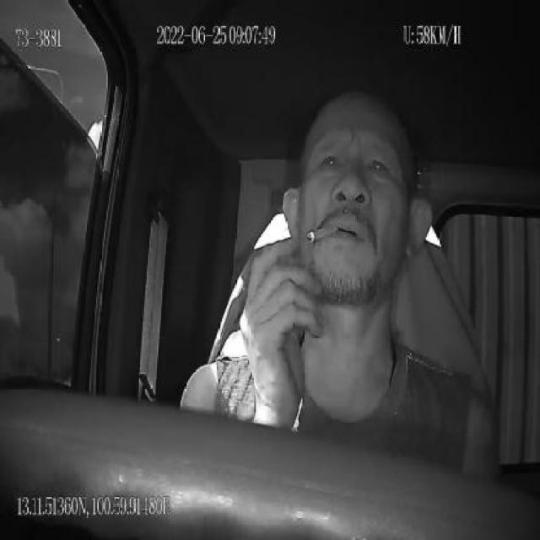smoking: (307, 224, 338, 243)
